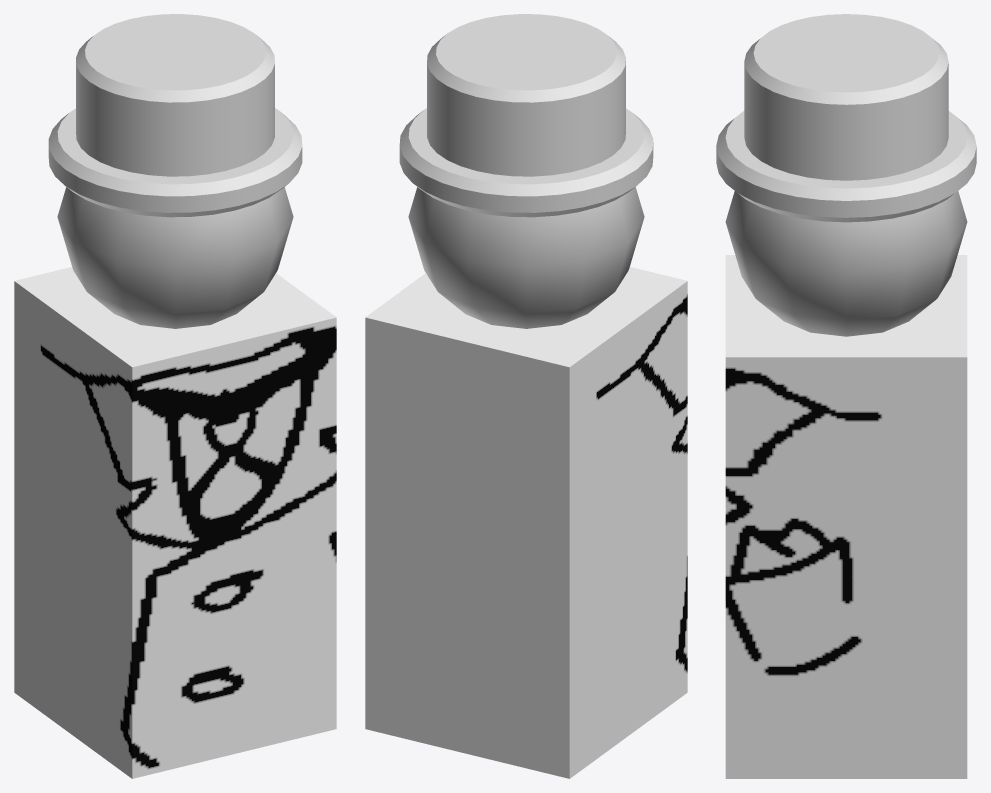
Rendered from player0.fbx.
3 views of the same model, side by side, from view 1: azimuth 30°, elevation 25°; view 2: azimuth 150°, elevation 25°; view 3: azimuth 270°, elevation 25° (orthographic). The views are drawn at different scales.
Parts seen in each view (by area): view 1: Cube, Cylinder, renderMesh1; view 2: Cube, Cylinder, renderMesh1; view 3: Cube, Cylinder, renderMesh1.
Boxes of the visible parts, box(x1,y1,x2,y2) form: Cube: box(14, 267, 336, 778); Cylinder: box(48, 14, 302, 217); renderMesh1: box(57, 187, 293, 328); Cube: box(365, 267, 687, 778); Cylinder: box(399, 14, 653, 217); renderMesh1: box(408, 187, 644, 328); Cube: box(725, 255, 967, 778); Cylinder: box(716, 14, 976, 222); renderMesh1: box(725, 191, 967, 336).
Bounding box in the file's own units: 28 × 80 × 28.
